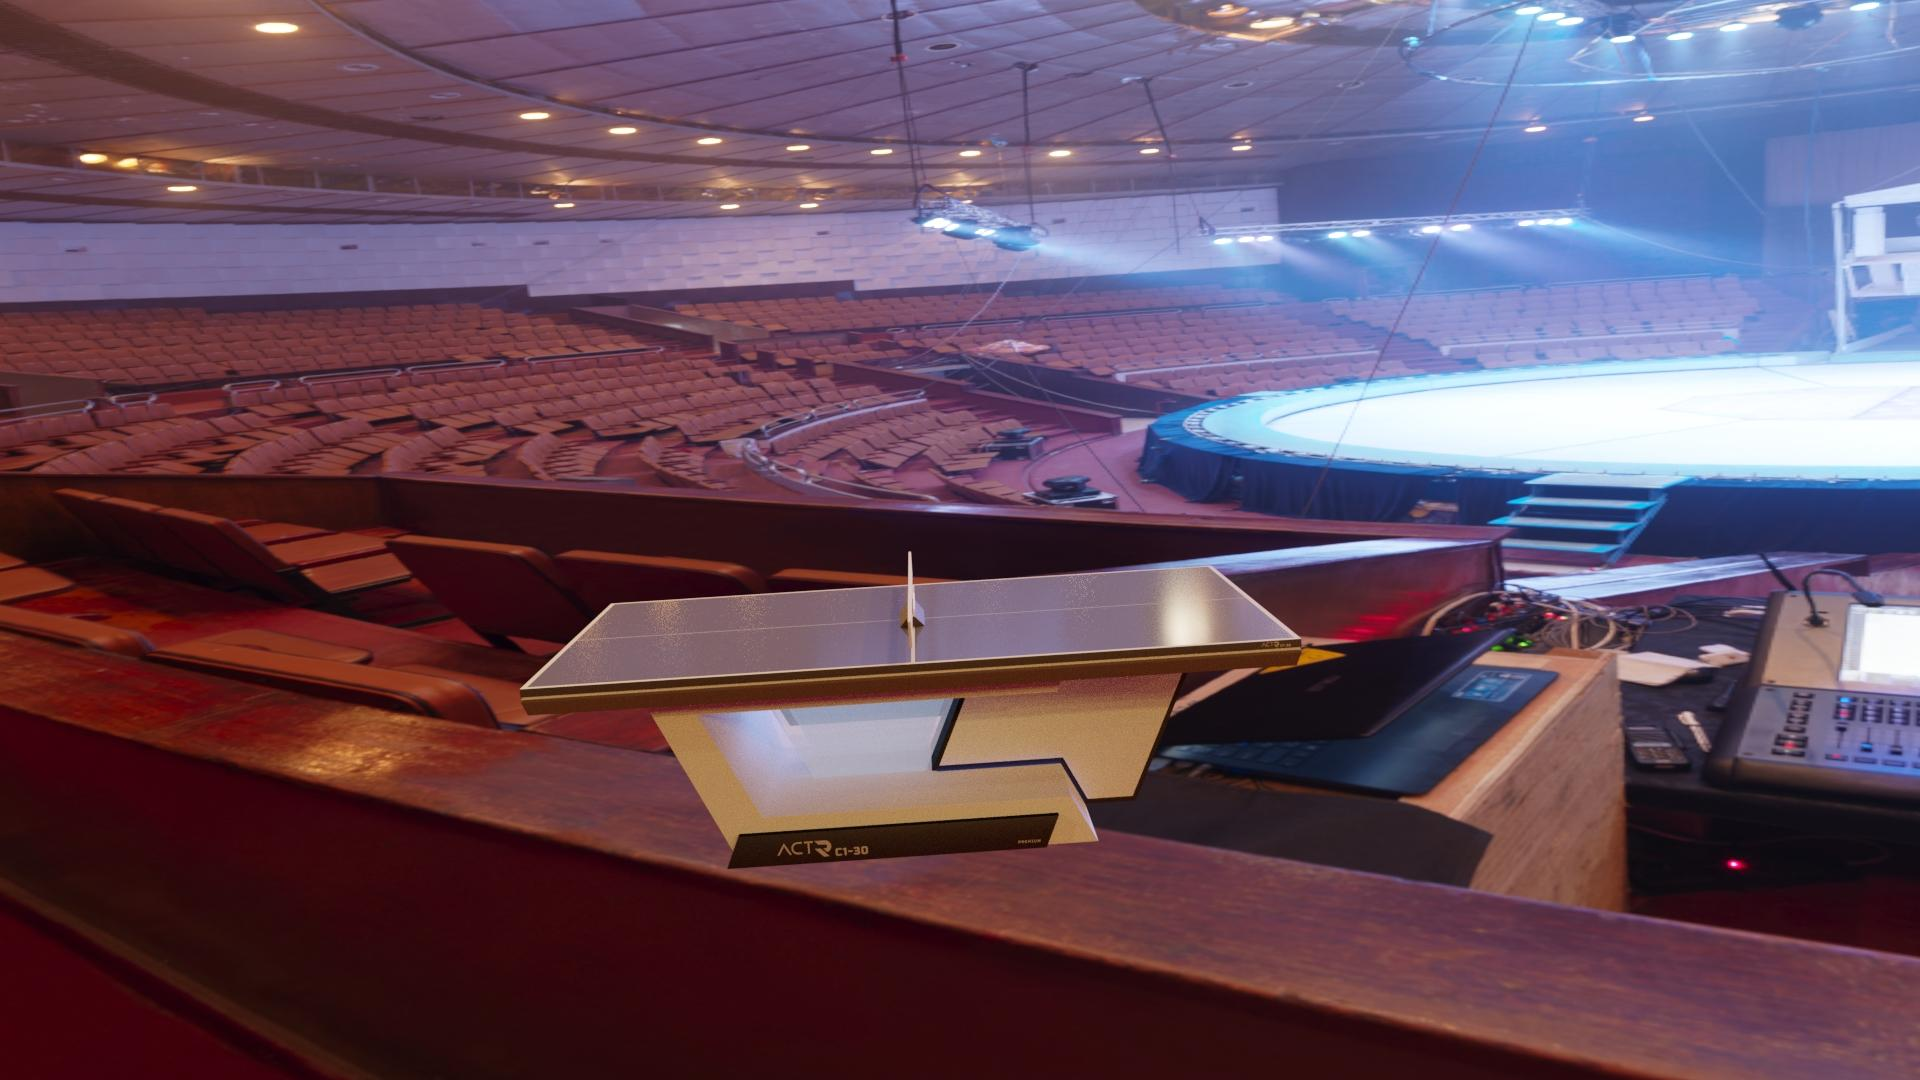table: (526, 567, 1295, 687)
